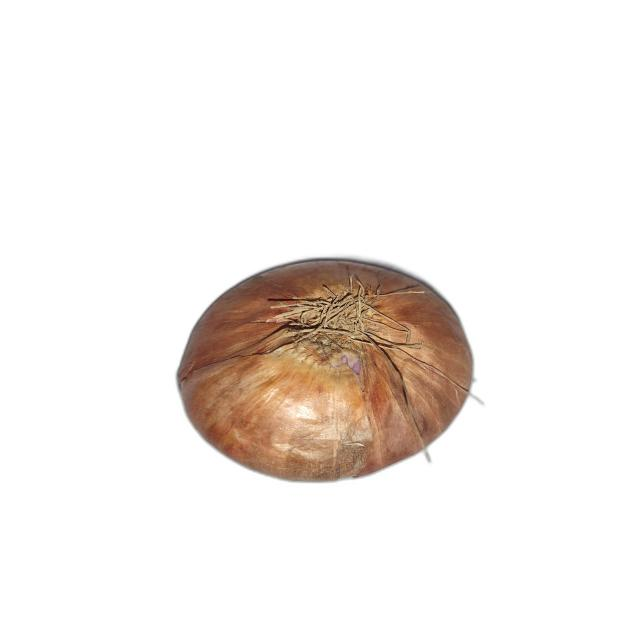onion: (175, 257, 476, 483)
